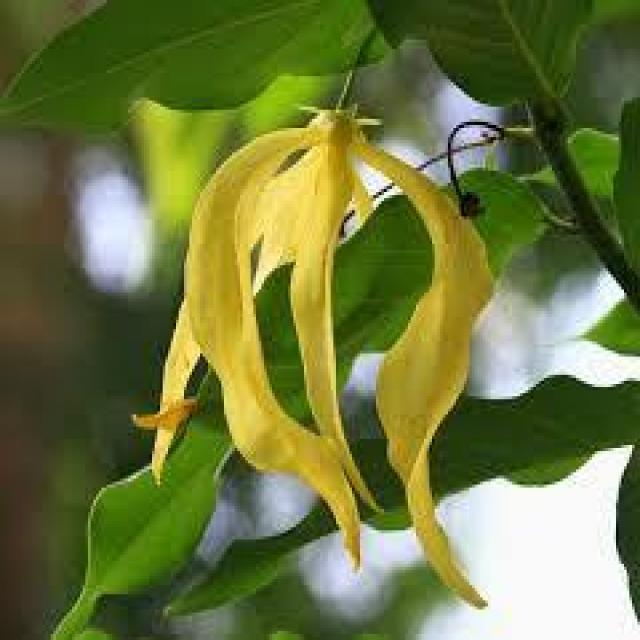organic waste: (172, 81, 489, 593)
